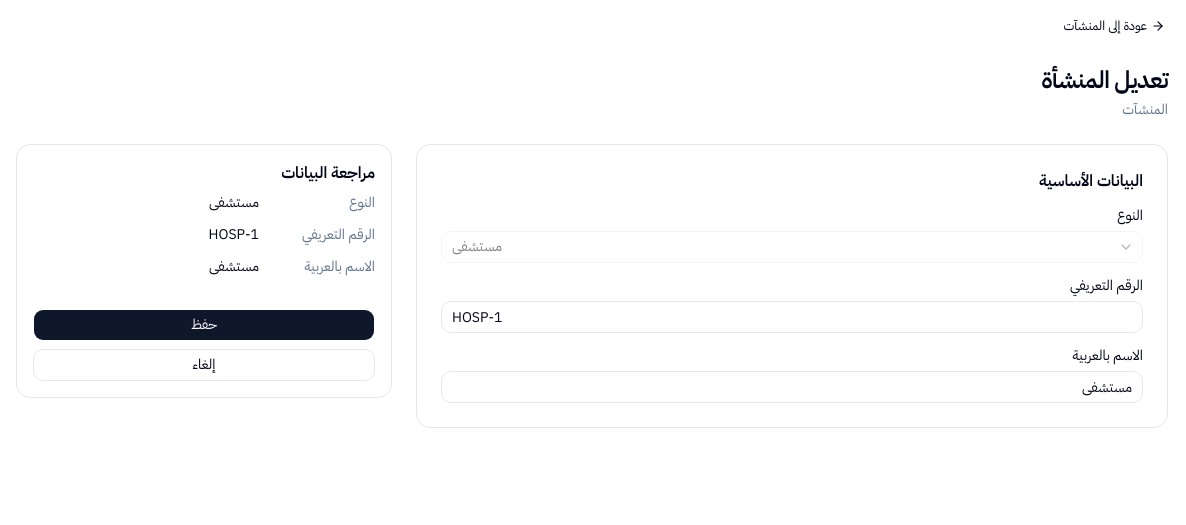
facility form page — edit › keeps the inputs visible and offers a reload when the save comes back 412
The width and height of the screenshot is (1186, 525).
Check: the field labelled "الرقم التعريفي" holds "HOSP-1", box 441,301 -> 1143,333
Replace the text in the field labelled "الاسم بالعربية" with "مستشفى محدث" at (792, 387), box 441,371 -> 1143,403
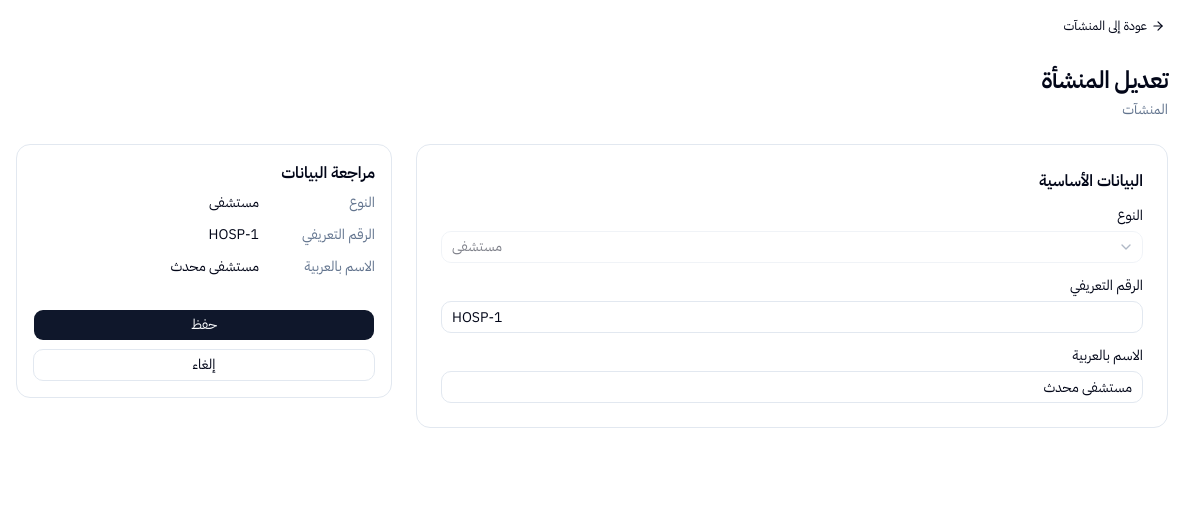
Click the button "حفظ".
click(204, 325)  # box 33,309 -> 375,341
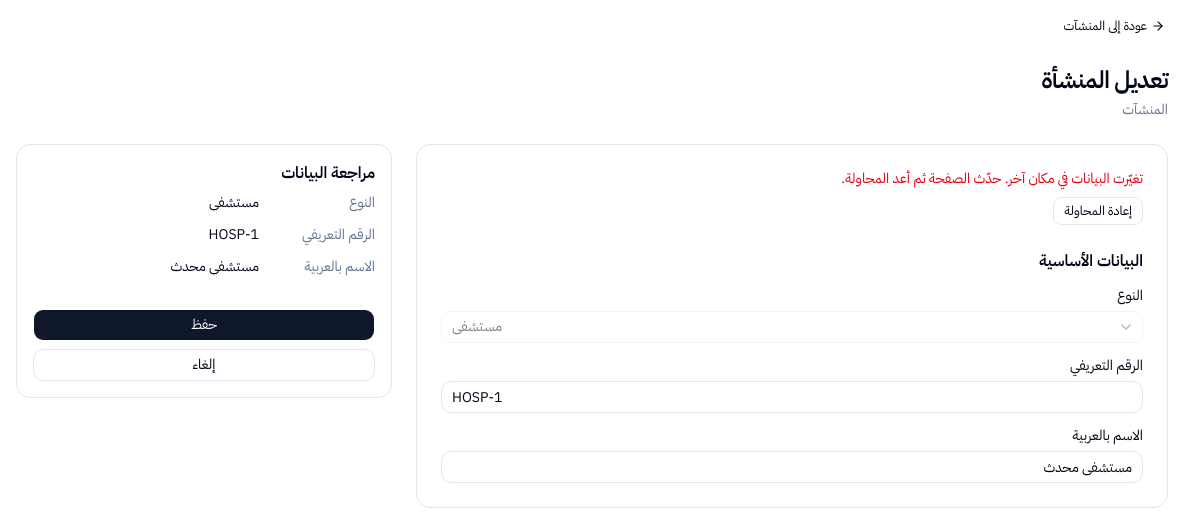
Check: the field labelled "الرقم التعريفي" holds "HOSP-1", box 441,381 -> 1143,413
Check: the text "تغيّرت البيانات في مكان آخر. حدّث الصفحة ثم أعد المحاولة." is shown, box 841,168 -> 1143,189
Check: the button "إعادة المحاولة" is shown, box 1054,197 -> 1143,225
